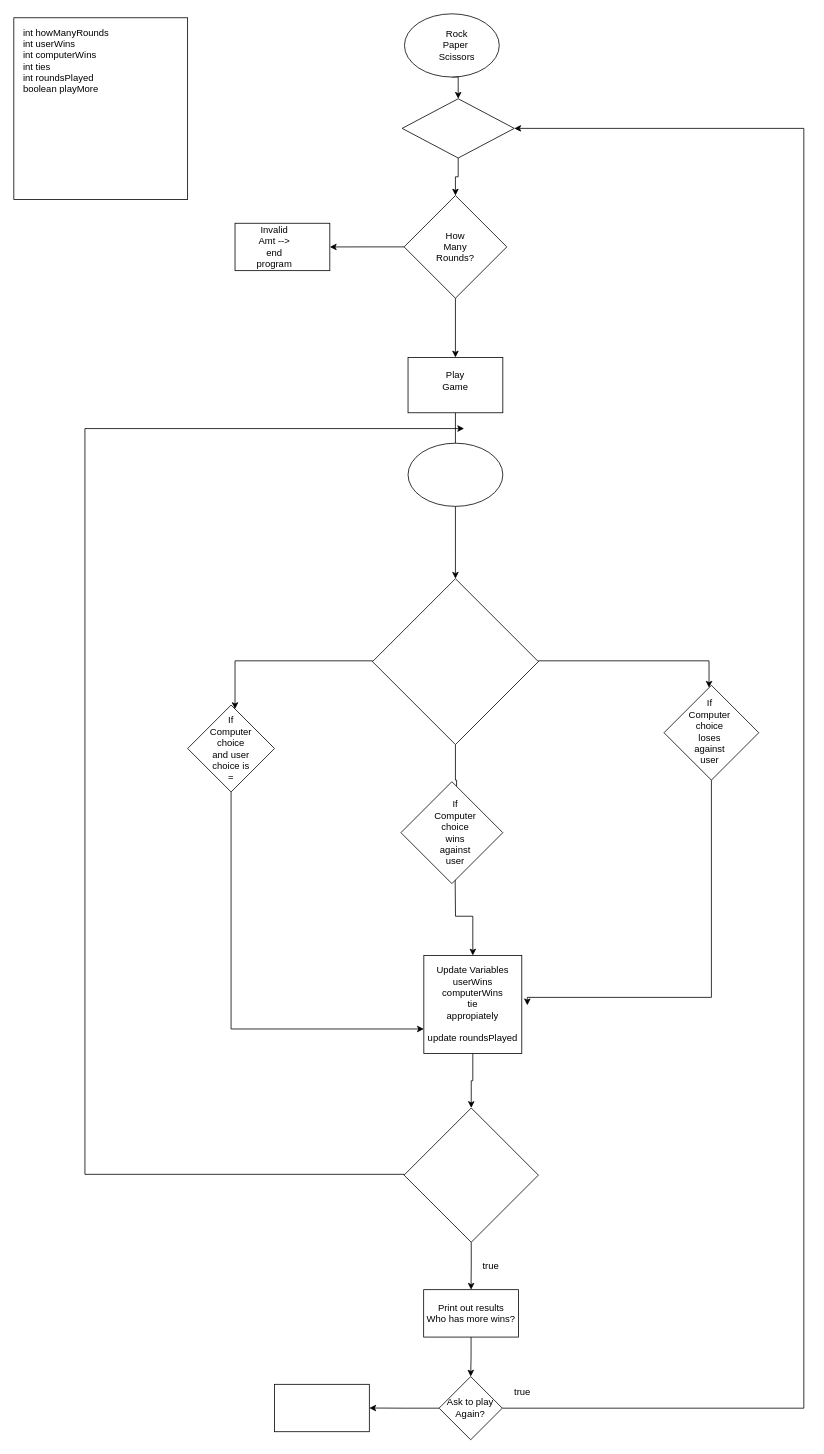
The diagram is 824 pixels wide and 1454 high, and some of its shapes have lost their labels. The box of each missing label's shape, as (x1, y1, x2, y2) in pixels:
Ask User: Rock, paper, scissors? 1: rock 2: paper 3: scissors: (372, 578, 538, 745)
Computer will randomly choose Rock, Paper, Scissors: (407, 442, 503, 506)
End Prohram: (274, 1384, 369, 1432)
if roundsPlayed >= howManyRounds: (403, 1107, 538, 1242)
while(playGame): (401, 98, 514, 158)
